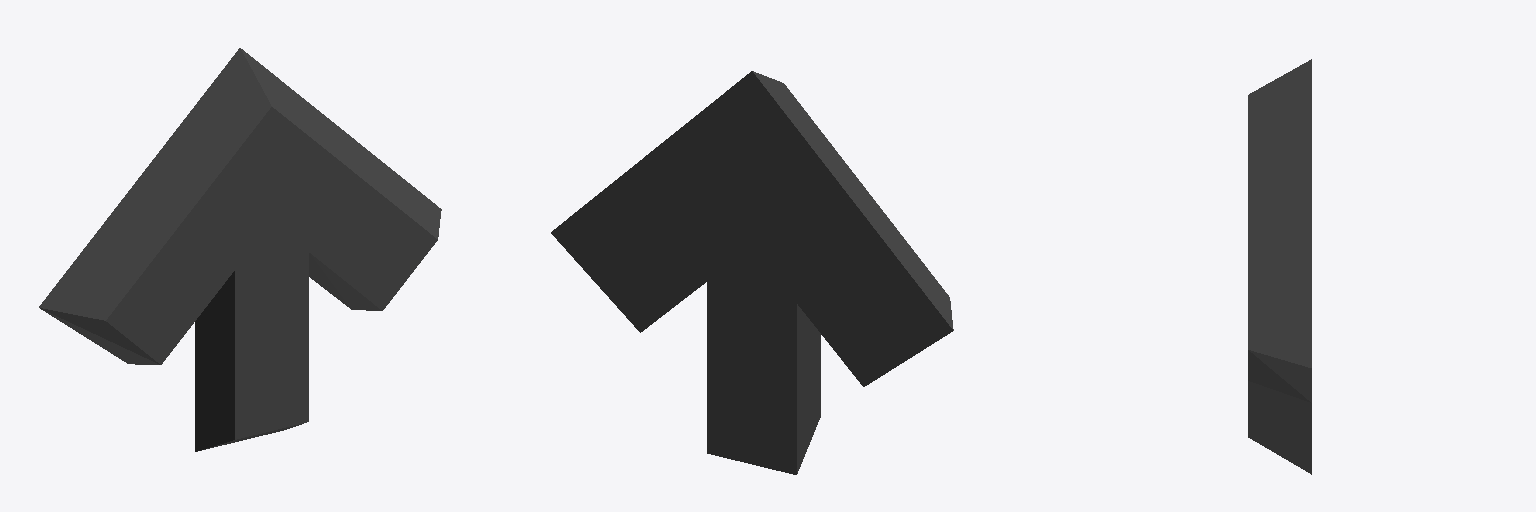
The model's file is Details_Arrow.obj.
3 views of the same model, side by side, from view 1: azimuth 30°, elevation 25°; view 2: azimuth 150°, elevation 25°; view 3: azimuth 270°, elevation 25° (orthographic).
Parts seen in each view (by area): view 1: Details_Arrow_Cube.062; view 2: Details_Arrow_Cube.062; view 3: Details_Arrow_Cube.062.
Part boxes in pixels (bbox=[...]): Details_Arrow_Cube.062: bbox=[39, 48, 441, 451]; Details_Arrow_Cube.062: bbox=[551, 71, 953, 474]; Details_Arrow_Cube.062: bbox=[1248, 59, 1311, 474].
Size of the model in its own units: 0.3601 by 0.336 by 0.0493.